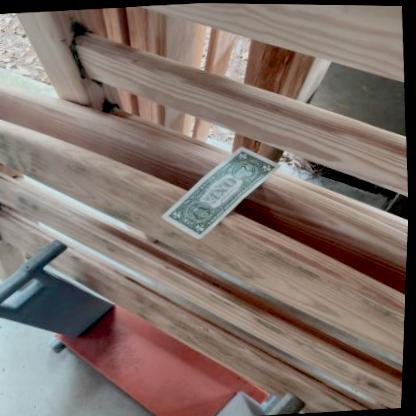one-back: (162, 146, 284, 240)
